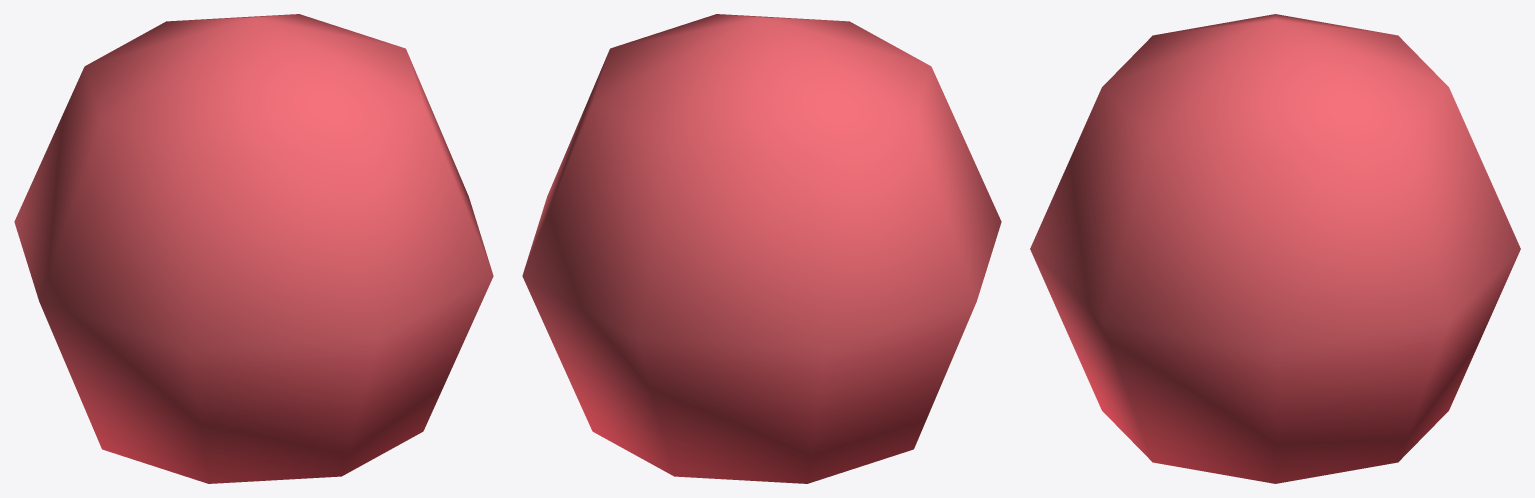
The model's file is Particle_Charge.obj.
3 renders of one model, left to right at view 1: azimuth 30°, elevation 25°; view 2: azimuth 150°, elevation 25°; view 3: azimuth 270°, elevation 25°, orthographic.
Visible parts, largest first — view 1: 球; view 2: 球; view 3: 球.
Part boxes in pixels (bbox=[...]): 球: bbox=[14, 14, 493, 483]; 球: bbox=[522, 14, 1001, 483]; 球: bbox=[1030, 14, 1520, 483].
Bounding box in the file's own units: 2 × 2.06 × 2.
Materials: 1 (1 with a texture image).
